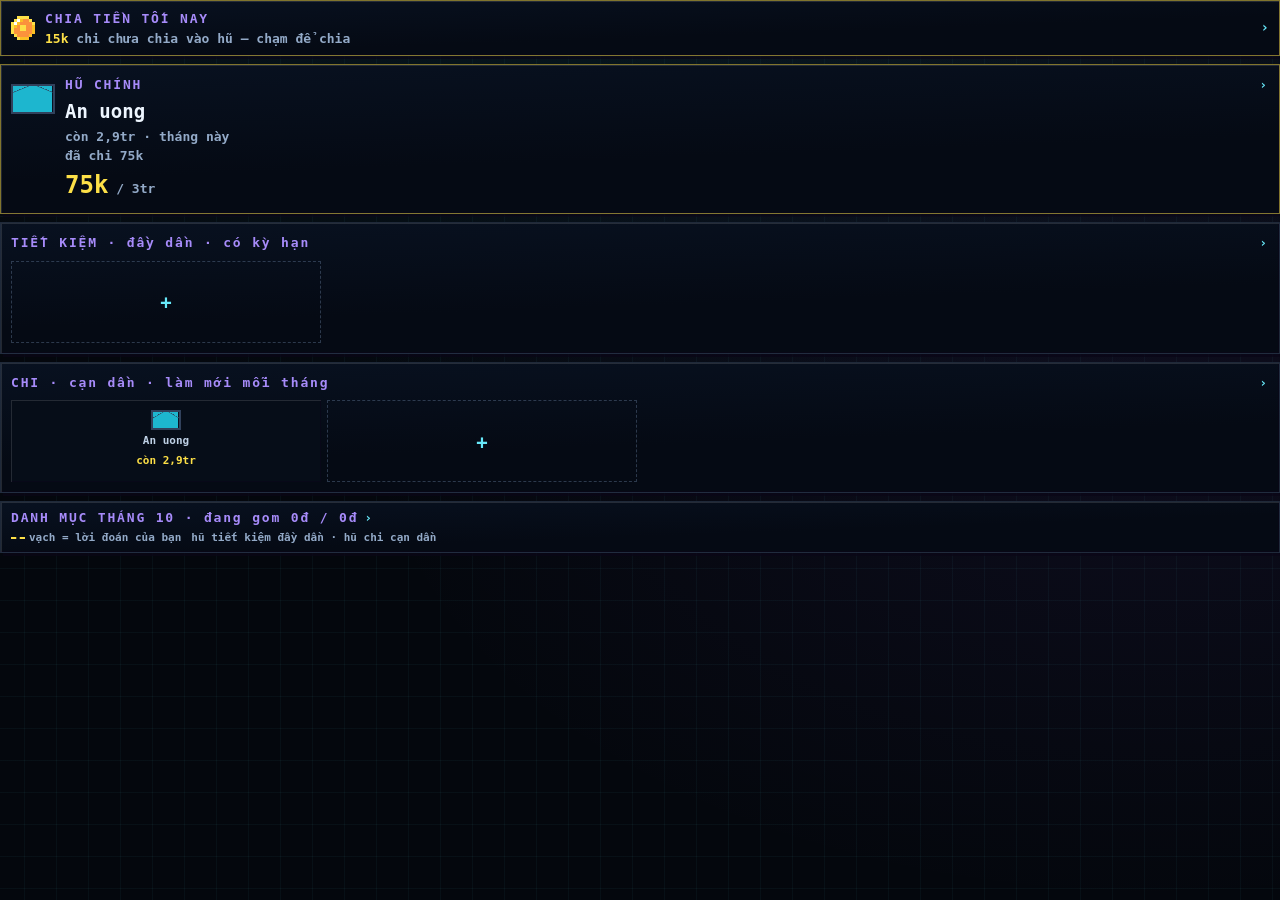
§ D421 — ⭐⭐ hai loại hũ trên màn HŨ › ⭐⭐ hũ tiêu dùng có LÁ riêng (đã tiêu tháng này / mức tháng — tổng khoản GÁN), không vào danh mục vị thế
Click the button with aria-label "HŨ CHÍNH: An uong" at (640, 139), box [0,64,1279,214]
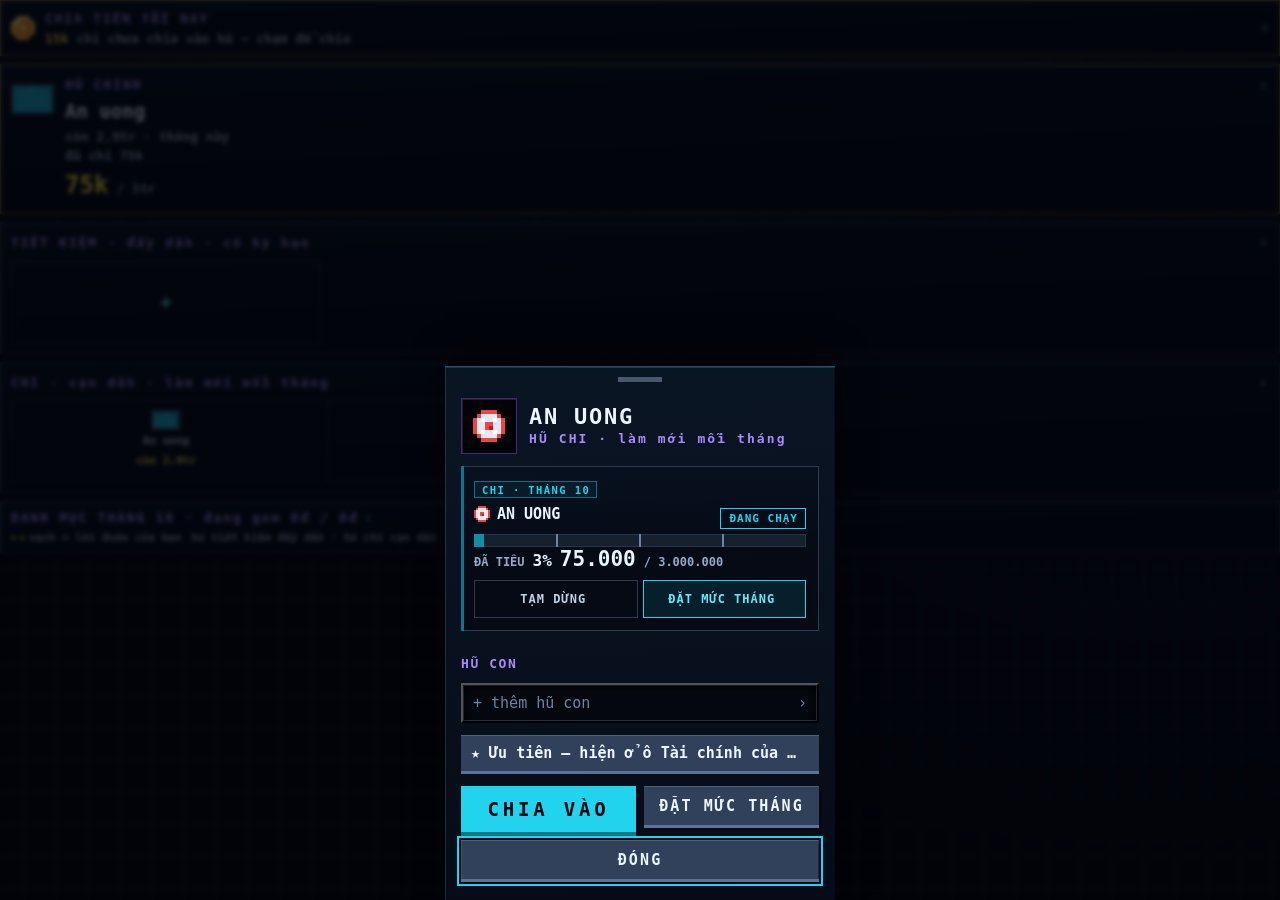
Result: the text with test id "da-tieu" reads "75.000" at [560,547,636,571]
Result: the element with test id "la-tieu-dung" shows "3.000.000" at [644,555,723,569]
